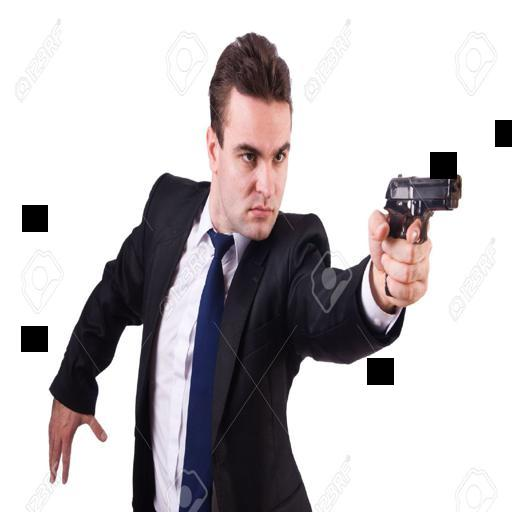Handgun: (380, 170, 462, 298)
